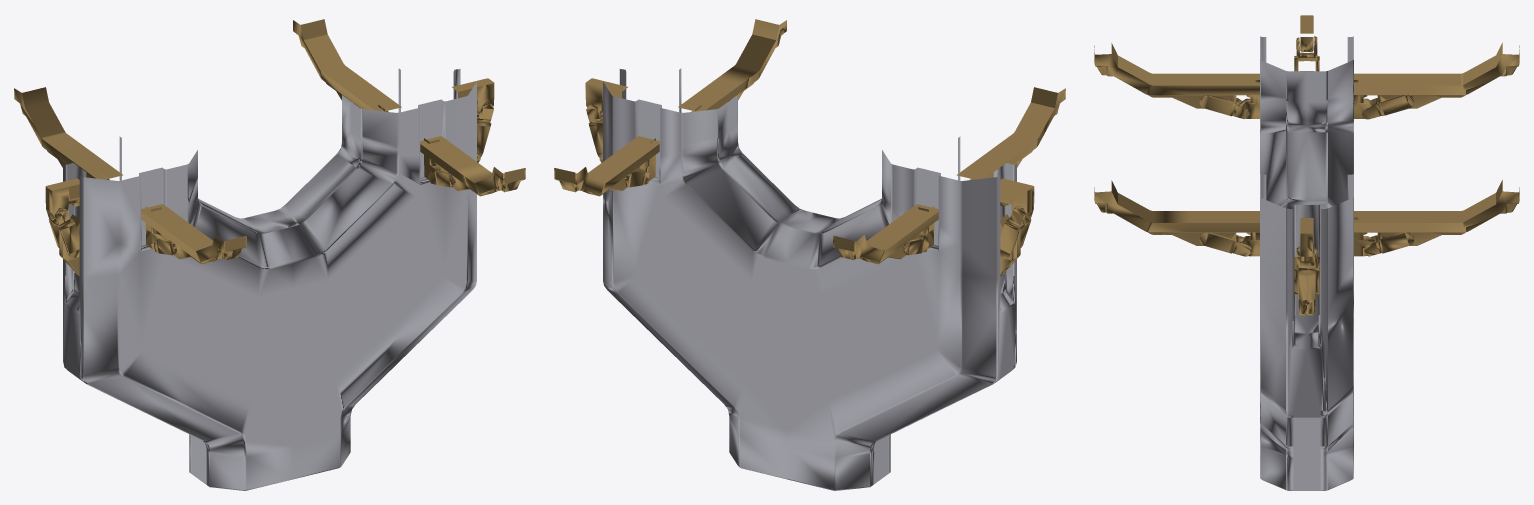
File: transit_track_support_tow_04x04x16_a.glb
3 renders of one model, left to right at view 1: azimuth 30°, elevation 25°; view 2: azimuth 150°, elevation 25°; view 3: azimuth 270°, elevation 25°, orthographic.
Bounding box in the file's own units: 19.05 × 14.06 × 15.67.
